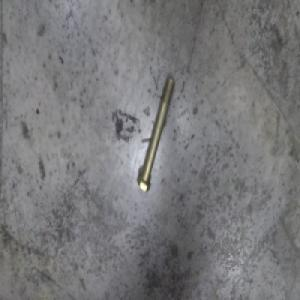Bolt: (135, 76, 178, 191)
